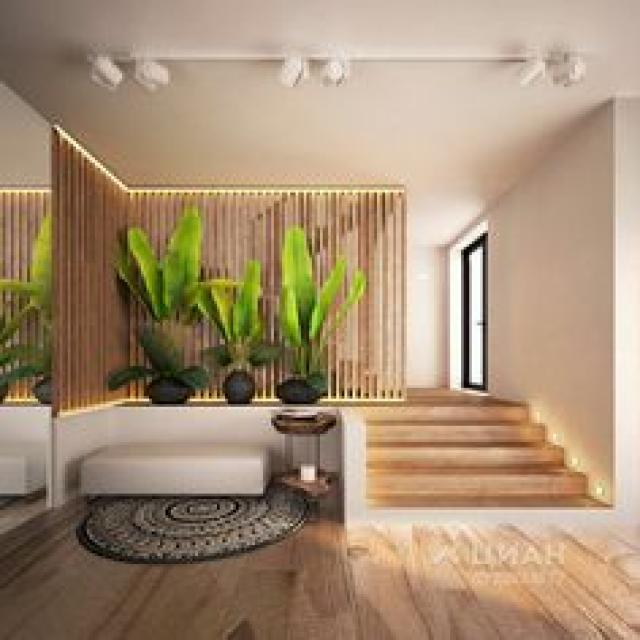upstair: (333, 379, 607, 539)
